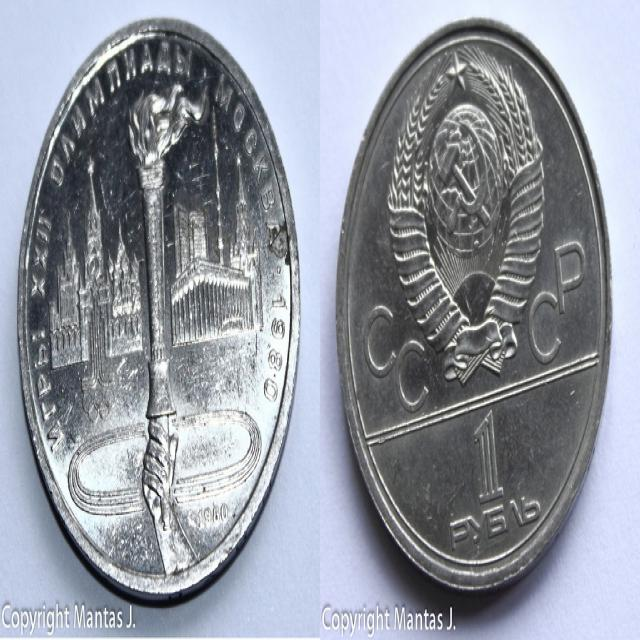Coin: (14, 18, 304, 603), (336, 20, 614, 585)
